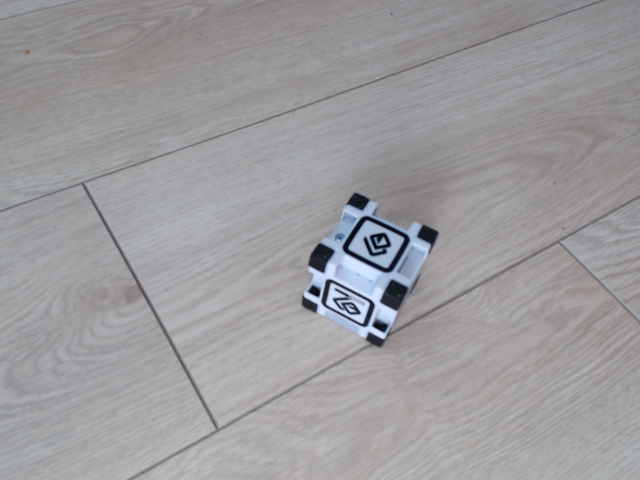block: (300, 187, 440, 354)
